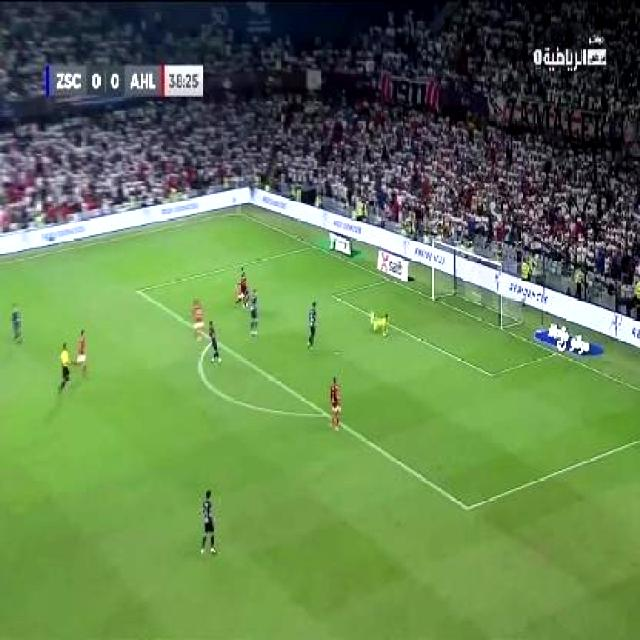bigarea_bottom_inner: (457, 494, 475, 518)
bigarea_top_inner: (131, 280, 146, 300)
bigarea_top_outter: (308, 238, 320, 252)
bottom_arc_area_intersection: (318, 405, 332, 423)
corner: (231, 206, 246, 217)
smallarea_bottom_inner: (483, 362, 500, 383)
smallarea_bottom_outter: (549, 345, 563, 360)
smallarea_top_inner: (326, 288, 339, 302)
smallarea_top_outter: (382, 272, 396, 286)
